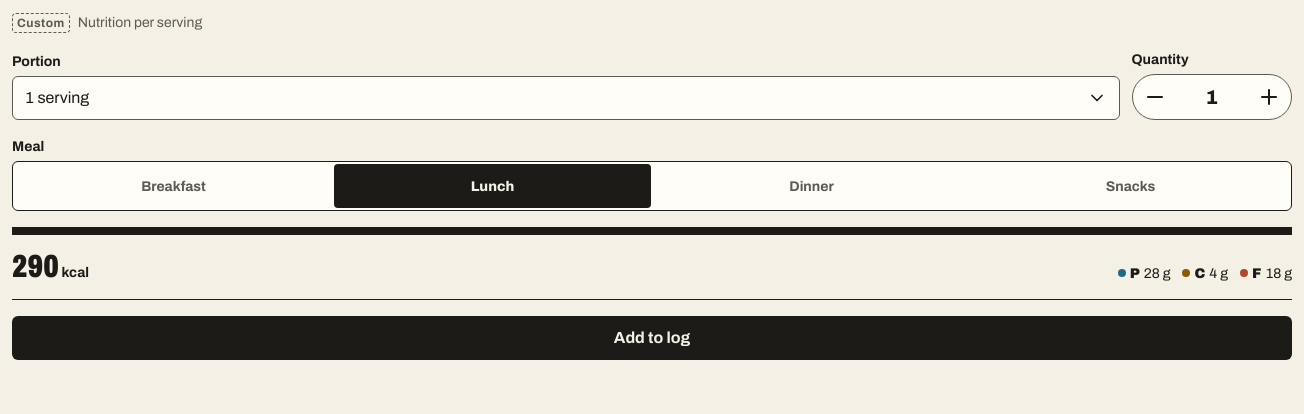
Test: FoodDetailContainer › blocks a zero amount and explains storage failures
Click the button "Add to log".
click(652, 338)  # box top-left (12, 316), bottom-right (1292, 360)
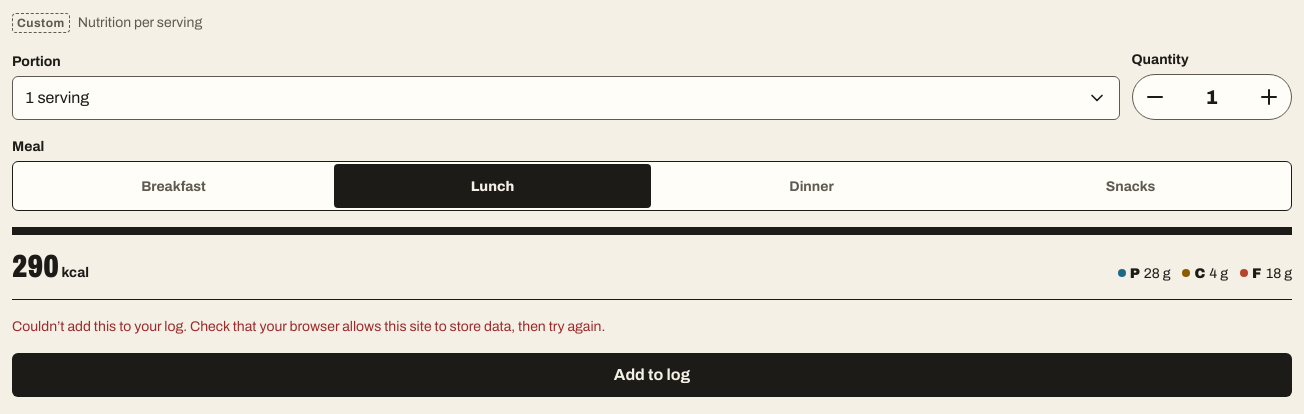
Check: the message shows "allows this site to store data", box top-left (12, 319), bottom-right (605, 334)
Click the button named "Decrease quantity".
click(1154, 97)  # box top-left (1132, 75), bottom-right (1176, 119)
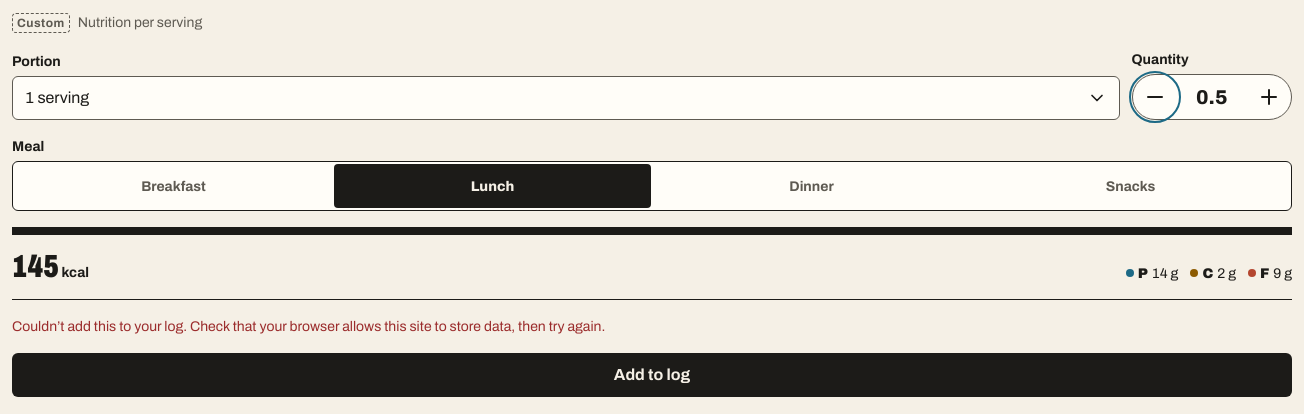
Click the button named "Decrease quantity".
click(1154, 97)  # box top-left (1132, 75), bottom-right (1176, 119)
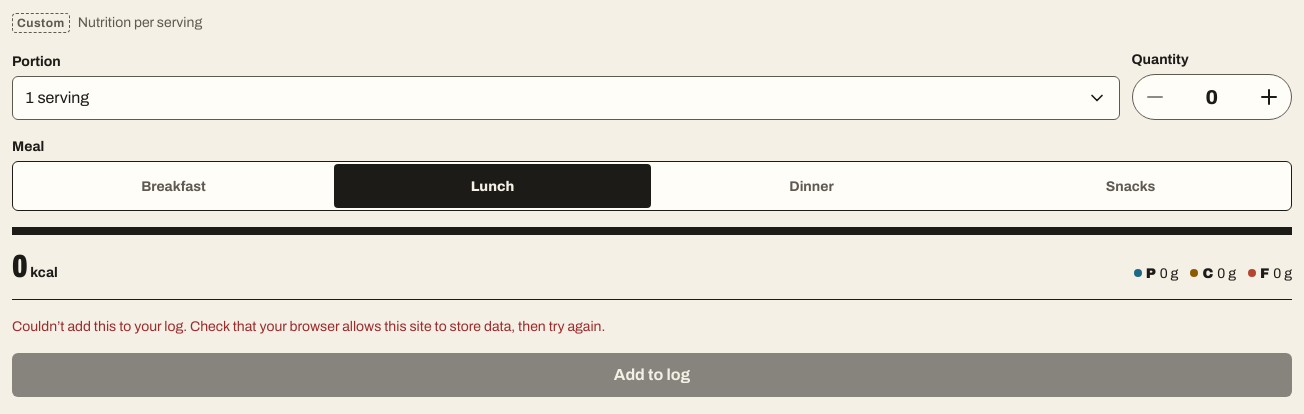
Check: the button "Add to log" is disabled, box top-left (12, 353), bottom-right (1292, 397)
